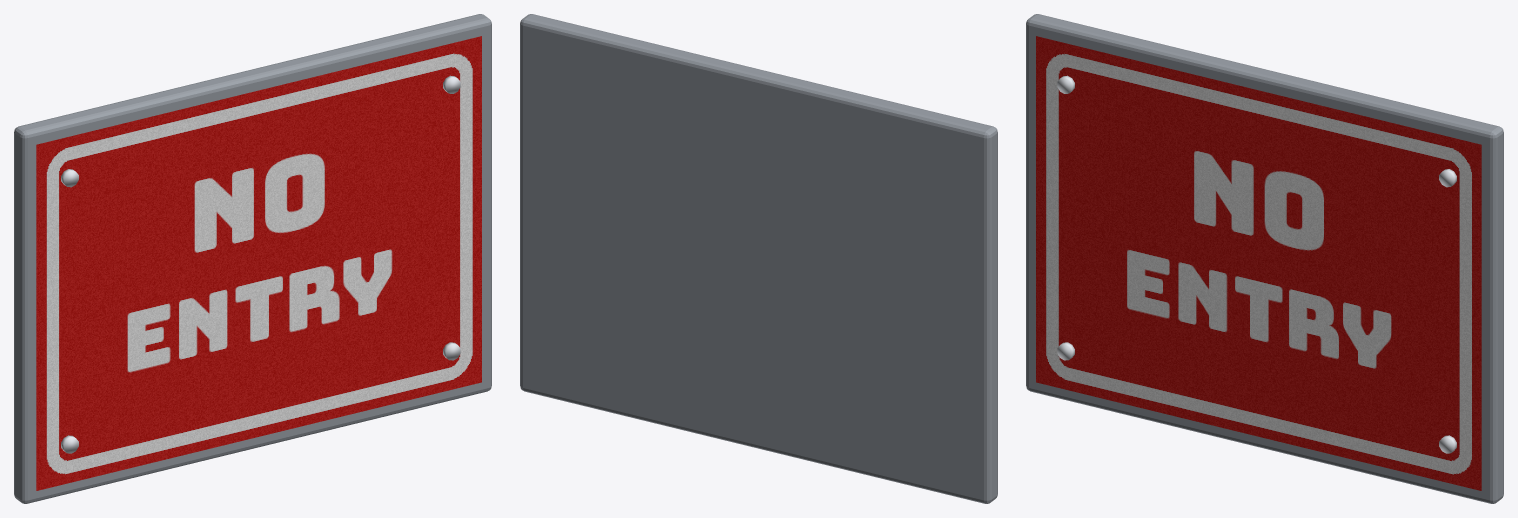
File: Wall_Sign_NoEntry.fbx
3 renders of one model, left to right at view 1: azimuth 30°, elevation 25°; view 2: azimuth 150°, elevation 25°; view 3: azimuth 330°, elevation 25°, orthographic.
Parts seen in each view (by area): view 1: Wall_Sign_NoEntry; view 2: Wall_Sign_NoEntry; view 3: Wall_Sign_NoEntry.
Boxes of the visible parts, x1=… form: Wall_Sign_NoEntry: x1=14, y1=14, x2=491, y2=503; Wall_Sign_NoEntry: x1=520, y1=14, x2=997, y2=503; Wall_Sign_NoEntry: x1=1026, y1=14, x2=1503, y2=503.
Size of the model in its own units: 0.74 by 0.56 by 0.041.
Materials: 3 (1 with a texture image).
